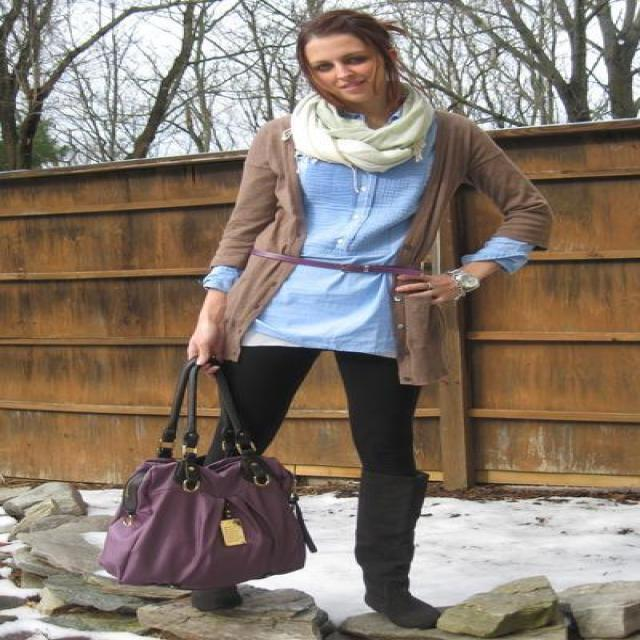bag: (98, 356, 315, 601)
jacket: (205, 91, 573, 384)
shirt: (203, 118, 533, 356)
shoe: (192, 463, 440, 626)
